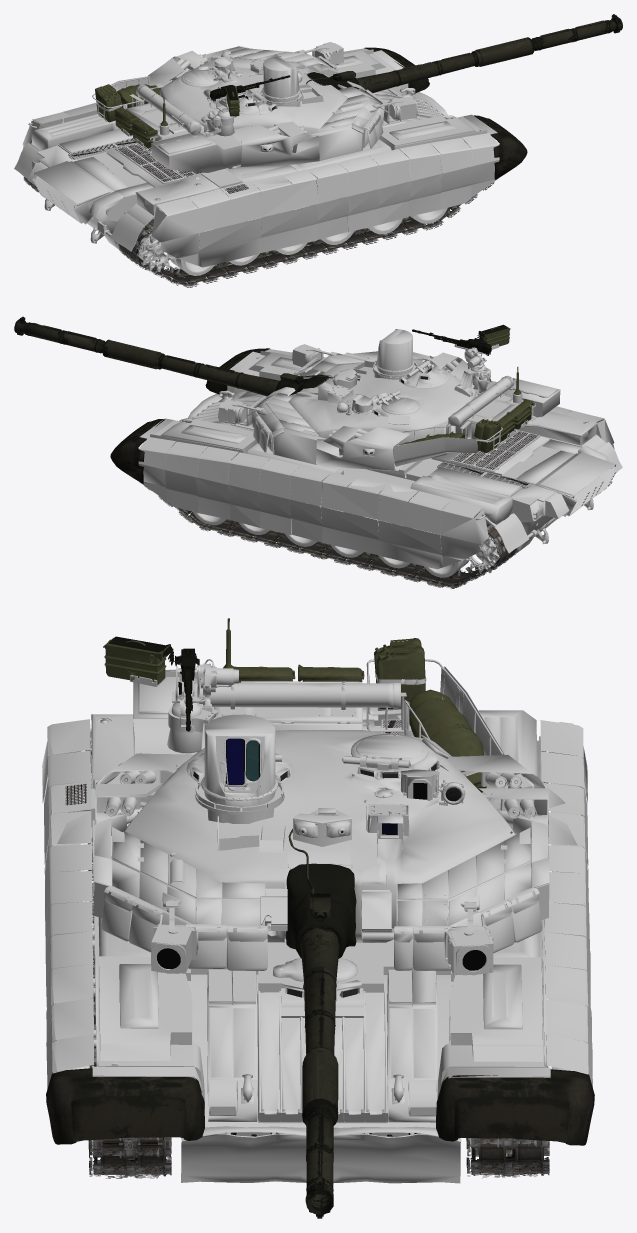
File: oplot.fbx
3 views of the same model, one above another, from view 1: azimuth 30°, elevation 25°; view 2: azimuth 150°, elevation 25°; view 3: azimuth 270°, elevation 25° (orthographic). The views are drawn at different scales.
Parts seen in each view (by area): view 1: chassis, tourelle_01, canon_01, Chenille_Droite_01, bmRamp, bmTurretDetails, bmEngineRadiator, Roue_D8, axe_canon_01, bmGun3, bmBag, Roue_D7; view 2: chassis, tourelle_01, canon_01, Chenille_Gauche_01, bmRamp, bmTurretDetails, bmEngineRadiator, Roue_G8, bmGun3, axe_canon_01, tourelle_02, bmTurretDetails.001; view 3: chassis, tourelle_01, bmRamp, canon_01, axe_canon_01, bmTurretDetails, Chenille_Droite_01, bmBag, Chenille_Gauche_01, bmTurretDetails.001, tourelle_02, bmGrass (+2 smaller).
Boxes of the visible parts, x1,y1,x2,y2 form: chassis: (14, 48, 499, 267); tourelle_01: (92, 42, 417, 172); canon_01: (332, 14, 622, 92); Chenille_Droite_01: (118, 141, 494, 287); bmRamp: (364, 47, 527, 179); bmTurretDetails: (95, 84, 168, 147); bmEngineRadiator: (70, 138, 201, 181); Roue_D8: (137, 232, 176, 272); axe_canon_01: (306, 72, 359, 89); bmGun3: (210, 82, 260, 101); bmBag: (117, 84, 161, 107); Roue_D7: (170, 232, 214, 275); chassis: (138, 349, 622, 569); tourelle_01: (218, 329, 560, 470); canon_01: (14, 316, 303, 396); Chenille_Gauche_01: (144, 445, 518, 588); bmRamp: (110, 348, 269, 483); bmTurretDetails: (474, 367, 533, 452); bmEngineRadiator: (438, 430, 538, 486); Roue_G8: (463, 534, 517, 573); bmGun3: (434, 324, 508, 355); axe_canon_01: (275, 374, 359, 395); tourelle_02: (464, 347, 486, 371); bmTurretDetails.001: (478, 327, 510, 346); chassis: (42, 707, 592, 1183); tourelle_01: (93, 659, 549, 975); bmRamp: (46, 1068, 594, 1145); canon_01: (296, 893, 342, 1218); axe_canon_01: (286, 829, 356, 958); bmTurretDetails: (223, 618, 425, 709); Chenille_Droite_01: (88, 761, 171, 1178); bmBag: (409, 689, 486, 792); Chenille_Gauche_01: (466, 782, 549, 1178); bmTurretDetails.001: (103, 638, 170, 684); tourelle_02: (171, 659, 238, 727); bmGrass: (225, 738, 260, 786).
Bounding box in the file's own units: 11.07 × 4.62 × 3.21.
